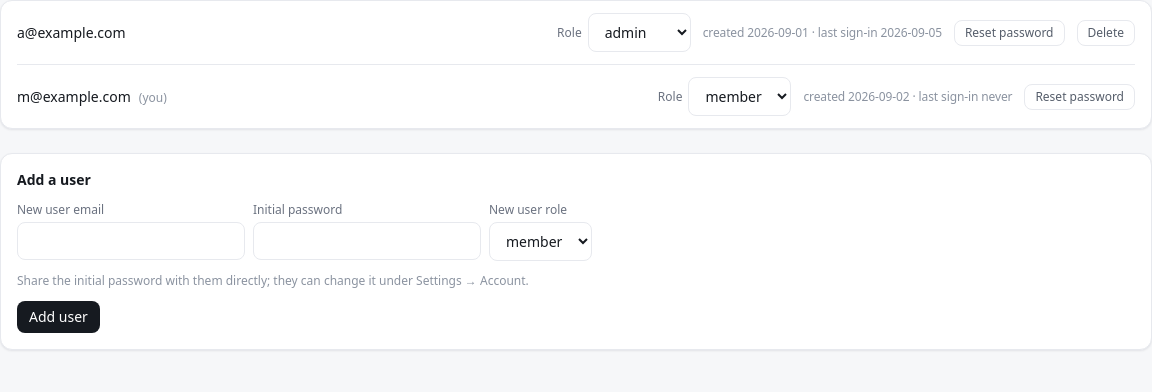
Test: UsersManager › changes a role via PATCH and shows the server's error text on 409
The width and height of the screenshot is (1152, 392).
Select "member" in the dropdown named "role" at (639, 32), box [588,13,691,52]
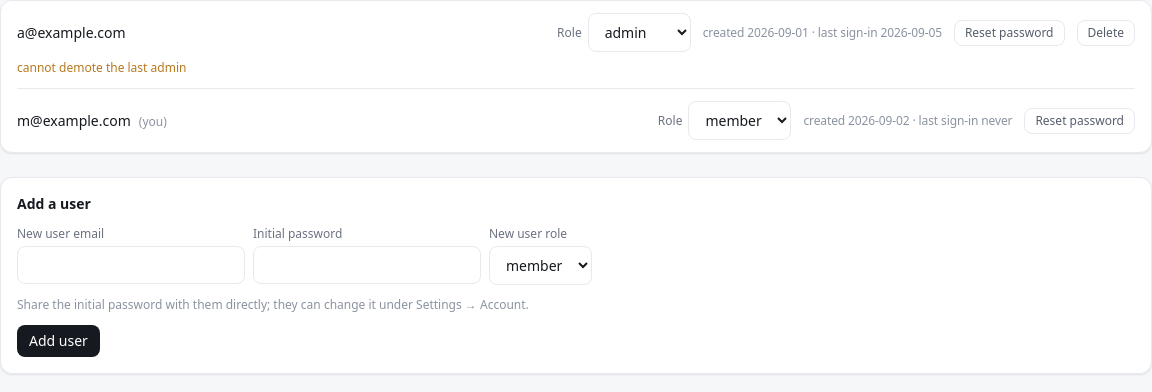
expect the message shows "last admin": met, box [17,59,186,76]
